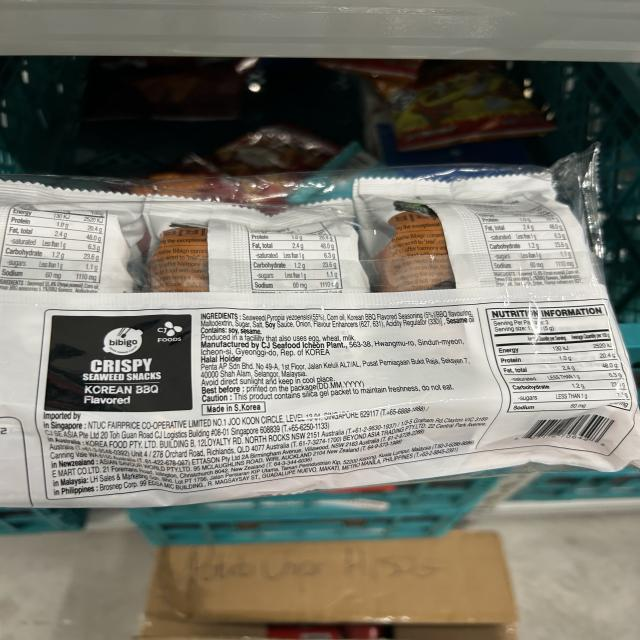object_name: (9, 181, 625, 478)
